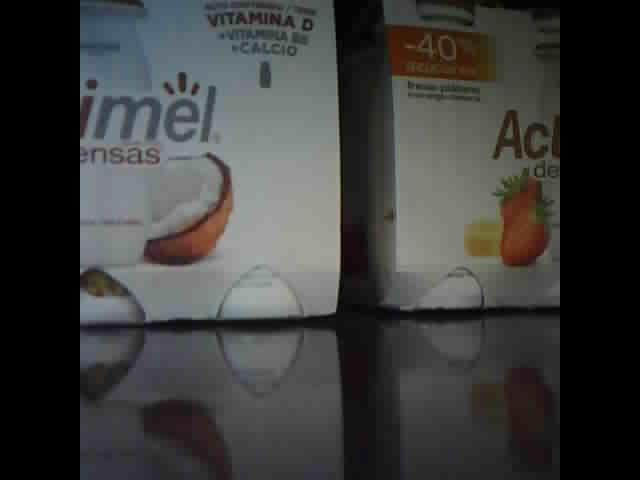actimel: (81, 1, 344, 325), (362, 1, 560, 315)
